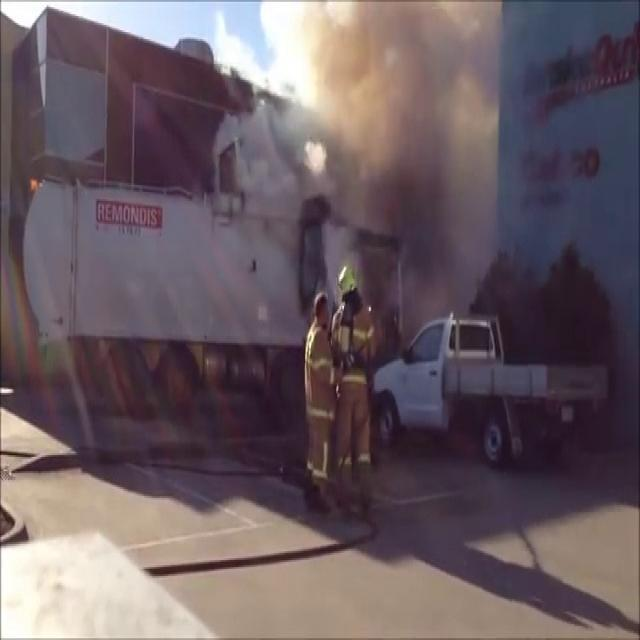Smoke: (234, 1, 598, 303)
